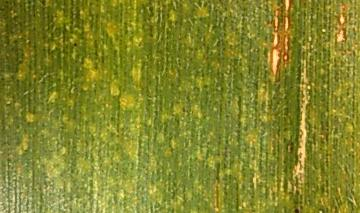tarspot: (290, 204, 303, 213), (70, 39, 80, 50)
